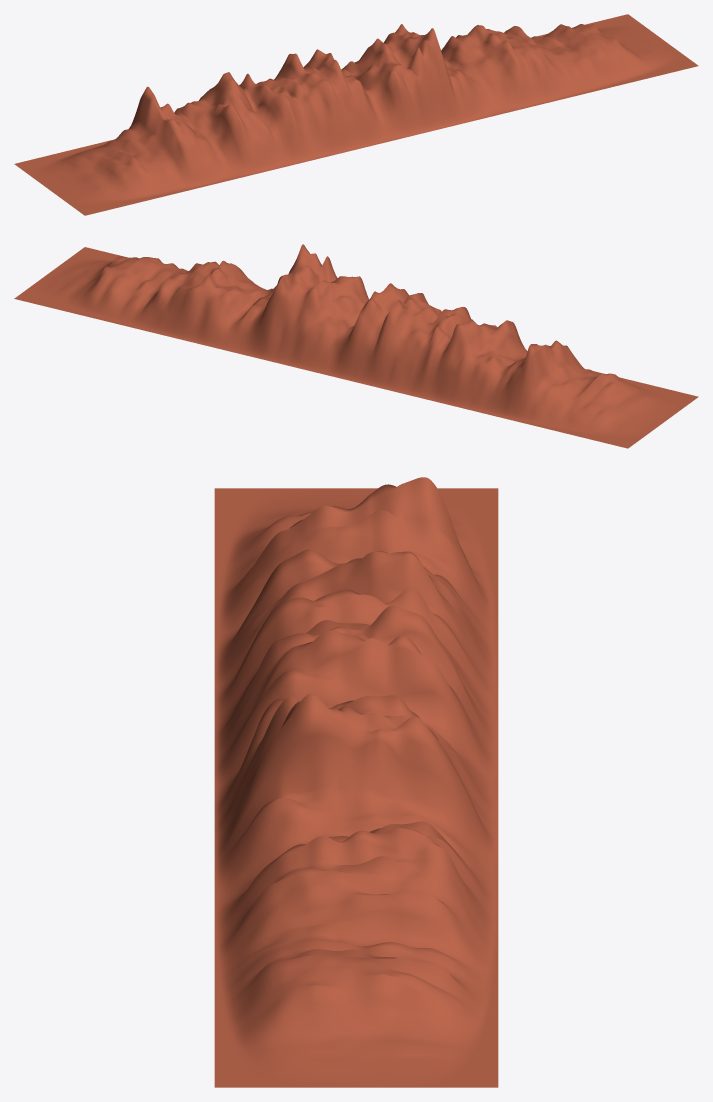
Rendered from mountain.glb.
3 renders of one model, top to bottom at view 1: azimuth 30°, elevation 25°; view 2: azimuth 150°, elevation 25°; view 3: azimuth 270°, elevation 25°, orthographic. The views are drawn at different scales.
Parts seen in each view (by area): view 1: Landscape; view 2: Landscape; view 3: Landscape.
Part boxes in pixels (bbox=[...]): Landscape: bbox=[14, 14, 698, 215]; Landscape: bbox=[14, 244, 698, 448]; Landscape: bbox=[214, 477, 498, 1087].
Bounding box in the file's own units: 10 × 1.23 × 2.
